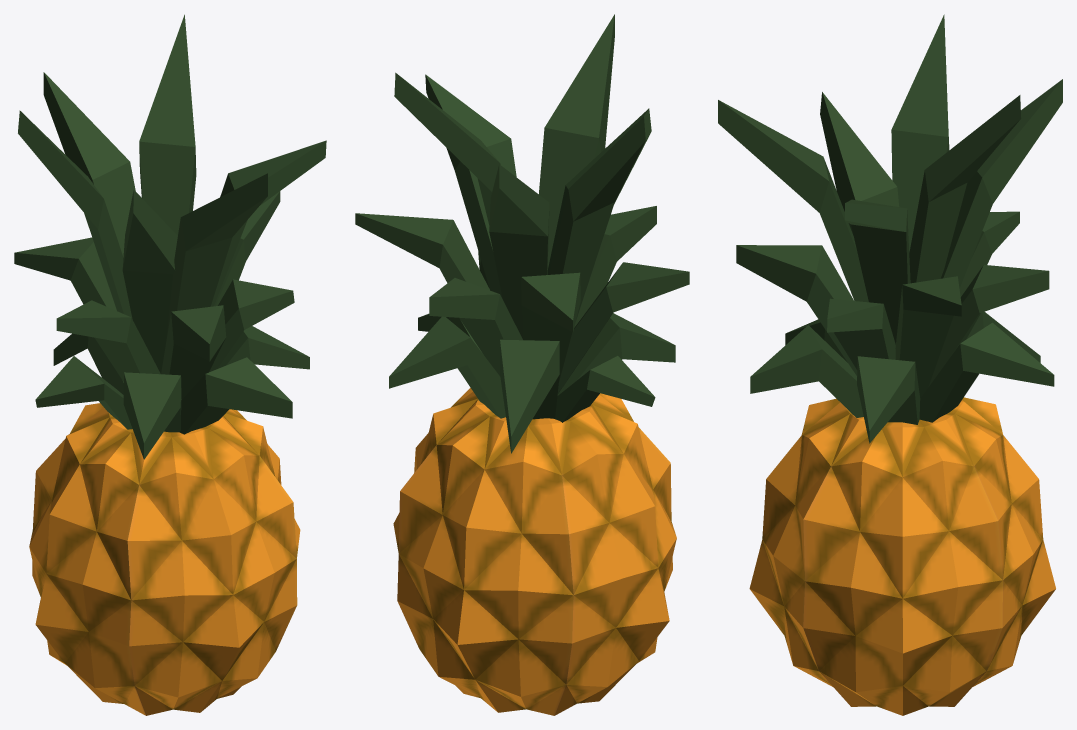
File: Pineapple.fbx
3 renders of one model, left to right at view 1: azimuth 30°, elevation 25°; view 2: azimuth 150°, elevation 25°; view 3: azimuth 270°, elevation 25°, orthographic. The views are drawn at different scales.
Visible parts, largest first — view 1: Pineapple; view 2: Pineapple; view 3: Pineapple.
Part boxes in pixels (x1=…): Pineapple: x1=14, y1=14, x2=326, y2=715; Pineapple: x1=355, y1=14, x2=689, y2=715; Pineapple: x1=718, y1=14, x2=1062, y2=715.
Bounding box in the file's own units: 24.93 × 53.32 × 26.49.
1 material, 1 textured.
